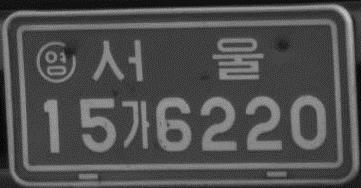0: (290, 92, 327, 152)
1: (40, 96, 65, 155)
2: (198, 95, 241, 152), (245, 94, 283, 153)
5: (77, 95, 119, 154)
6: (154, 94, 193, 154)
가: (120, 98, 151, 150)
서울_D: (90, 34, 266, 88)
영: (36, 39, 77, 84)
